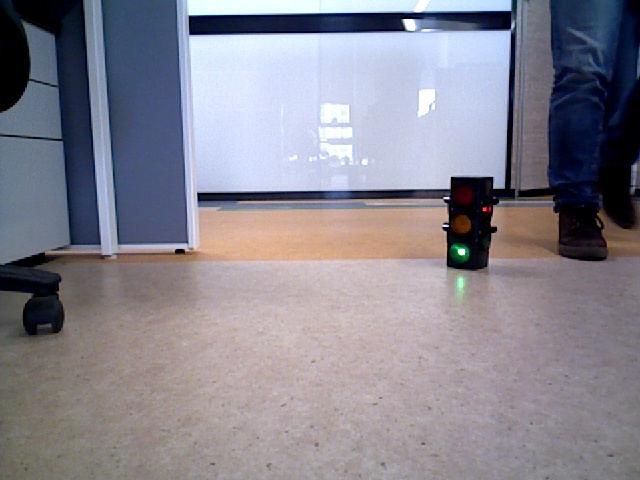green: (449, 177, 486, 266)
